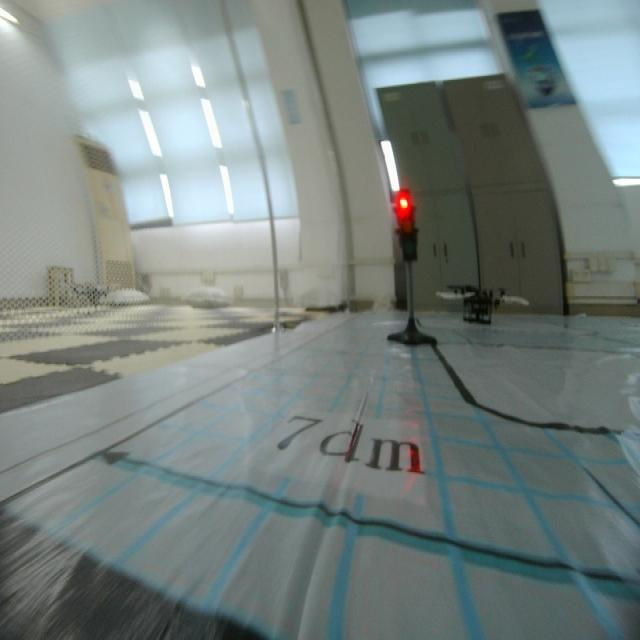red: (391, 185, 421, 271)
